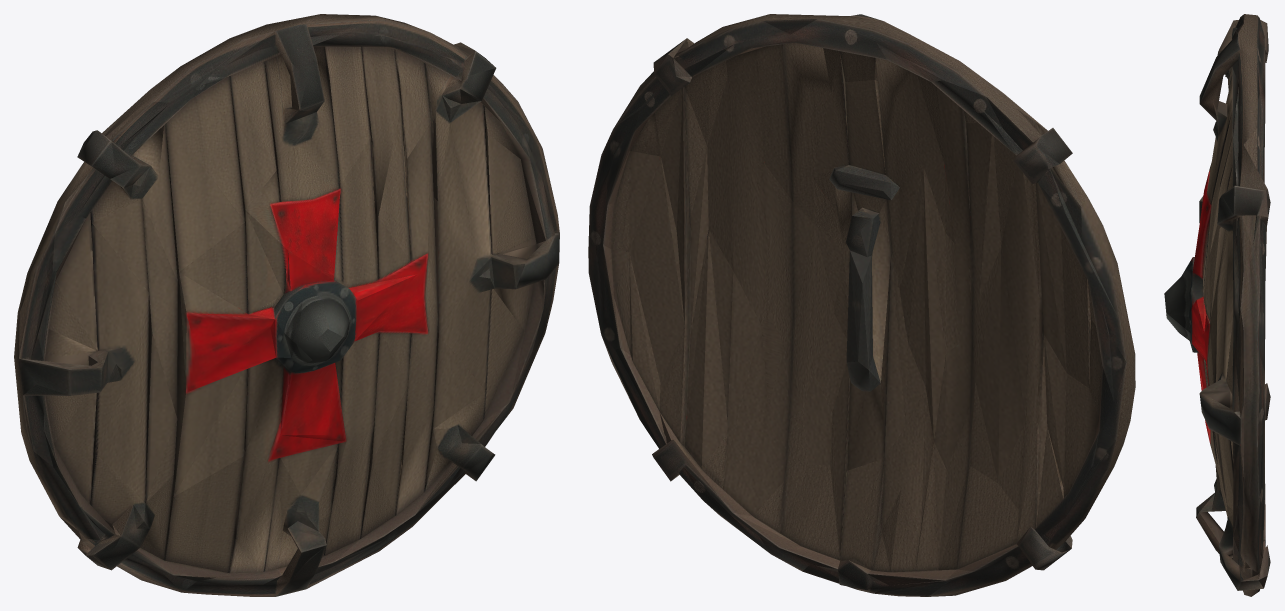
Rendered from modelo.fbx.
The picture shows the model from 3 angles, left to right: view 1: azimuth 30°, elevation 25°; view 2: azimuth 150°, elevation 25°; view 3: azimuth 270°, elevation 25°; orthographic projection. The views are drawn at different scales.
Visible parts, largest first — view 1: Mesh_0; view 2: Mesh_0; view 3: Mesh_0.
Part boxes in pixels (box(x1,y1,x2,y2)): Mesh_0: box(14, 14, 559, 596); Mesh_0: box(588, 14, 1135, 596); Mesh_0: box(1164, 14, 1270, 596).
Size of the model in its own units: 188 by 189 by 34.3.
Materials: 1 (1 with a texture image).
